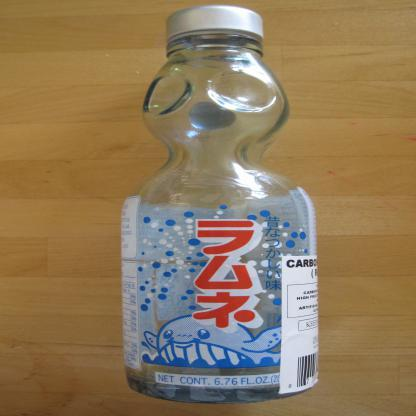bottle: (94, 0, 361, 412)
